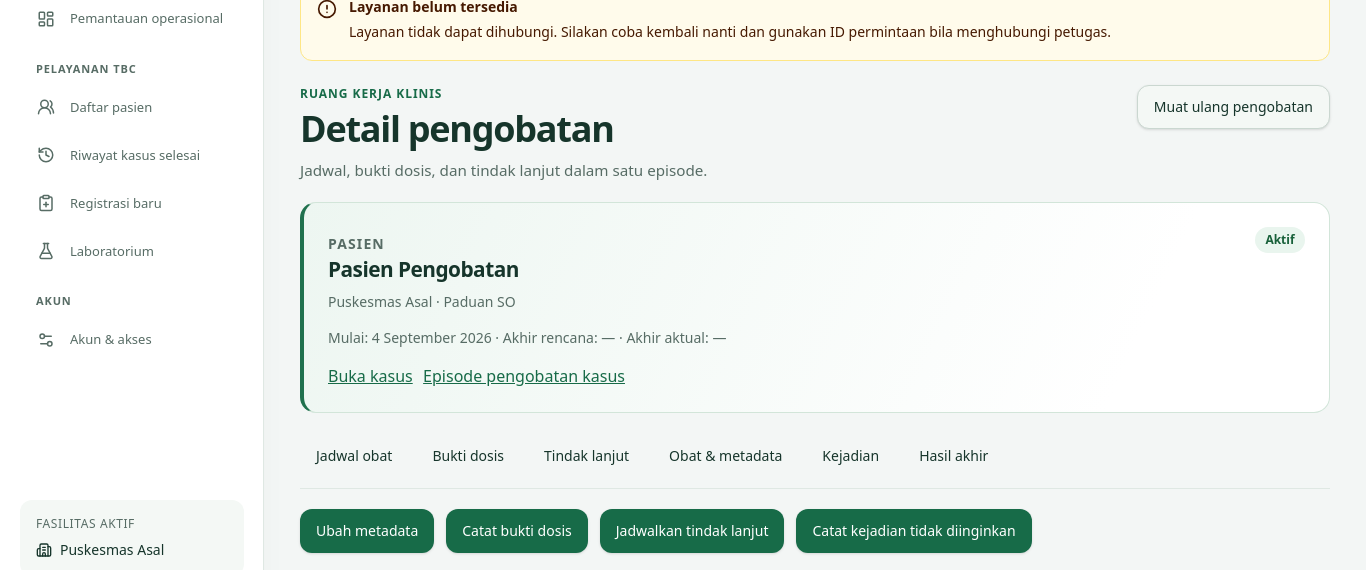
Test case: OPTIMISTIC_LOCK_CONFLICT preserves dirty metadata and requires explicit review before another submission
Click the button "Ubah metadata" at [367, 531], box [300, 509, 434, 553]
(page scrolled)
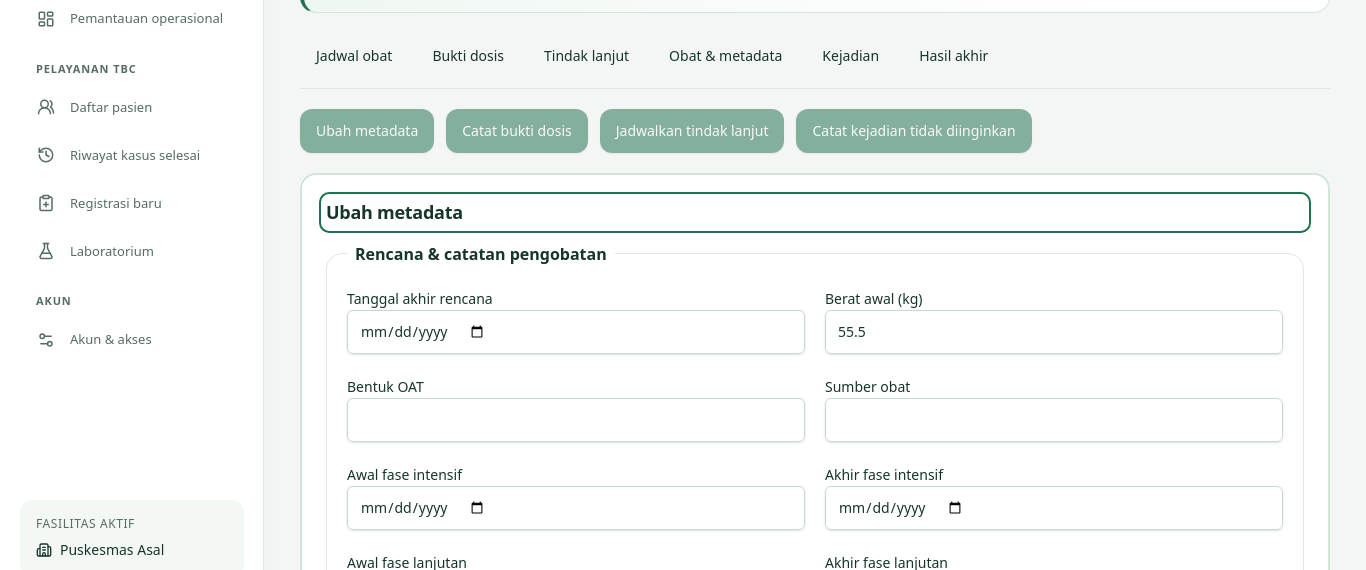
Type "Draft kept" into the field labelled "Bentuk OAT" at [576, 420], box [347, 398, 805, 442]
(page scrolled)
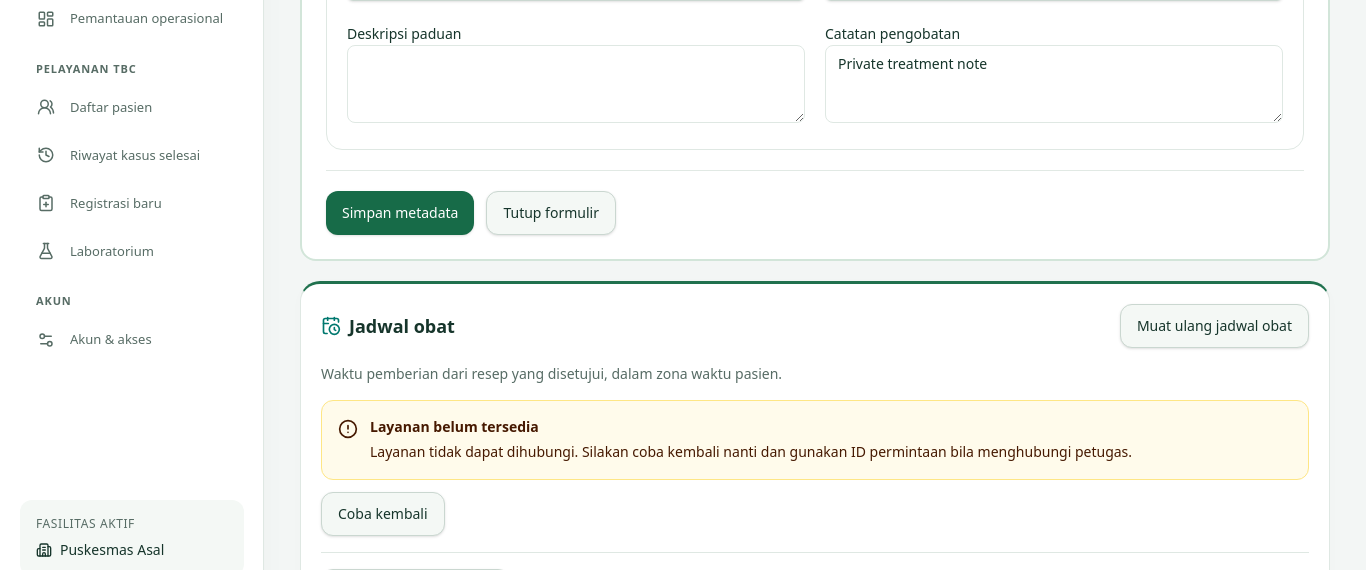
Click the button "Simpan metadata" at [400, 213], box [326, 191, 474, 235]
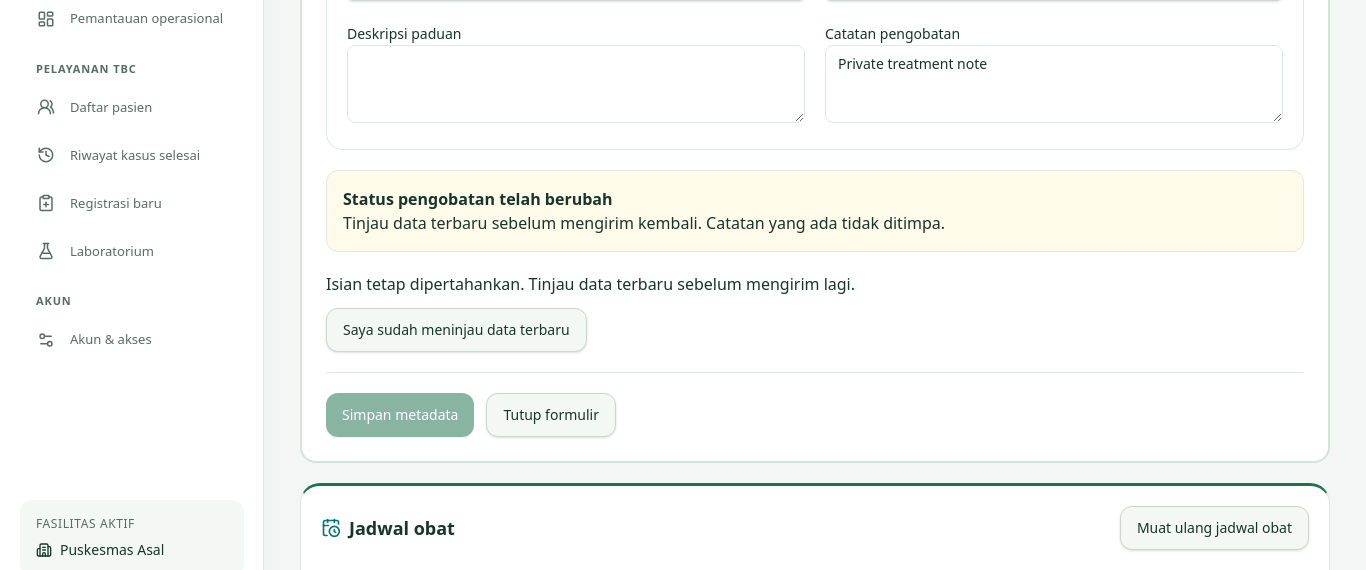
Expected: the text "Isian tetap dipertahankan" is shown, [326, 273, 855, 295]
Expected: the button "Simpan metadata" is disabled, [326, 393, 474, 437]
Click the button "Saya sudah meninjau data terbaru" at [456, 330], box [326, 308, 587, 352]
(page scrolled)
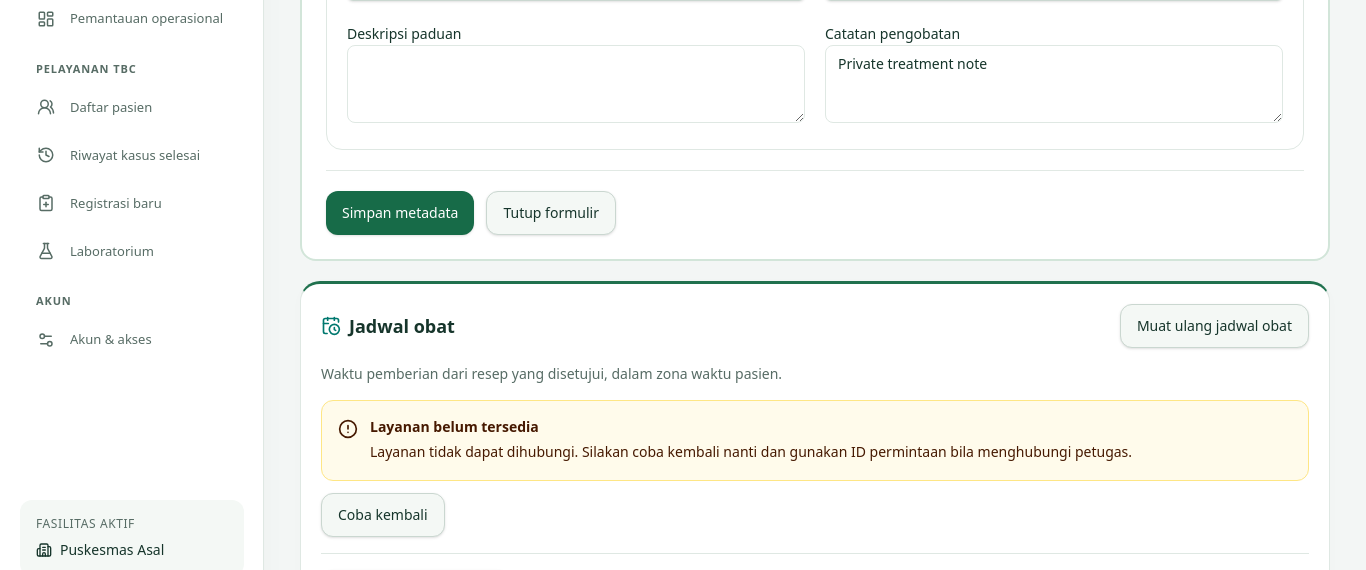
Expected: the button "Simpan metadata" is enabled, [326, 191, 474, 235]
